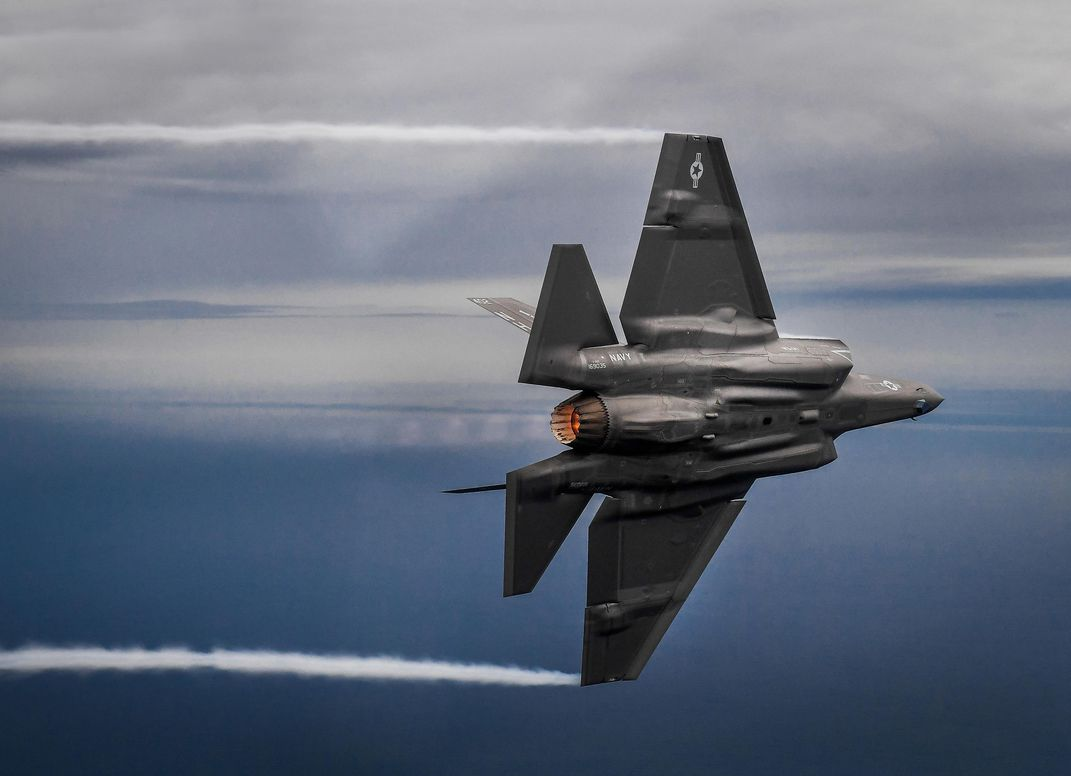F-35 Lightning: (368, 76, 961, 700)
